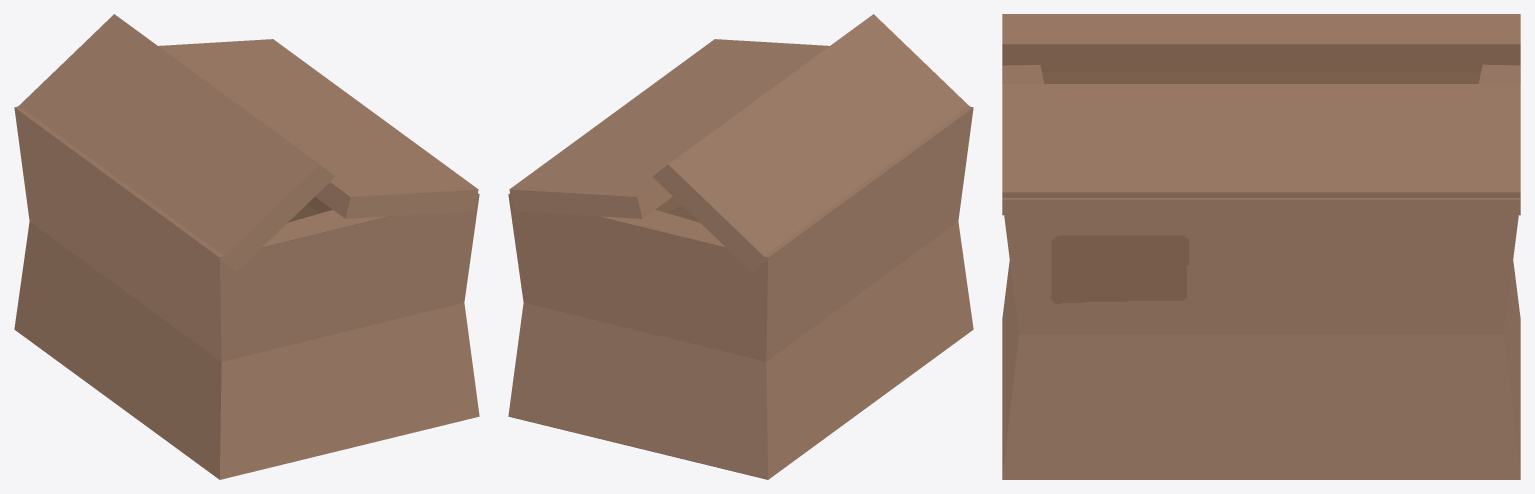
The picture shows the model from 3 angles, left to right: view 1: azimuth 30°, elevation 25°; view 2: azimuth 150°, elevation 25°; view 3: azimuth 270°, elevation 25°; orthographic projection. The views are drawn at different scales.
Visible parts, largest first — view 1: box1; view 2: box1; view 3: box1.
Boxes of the visible parts, x1,y1,x2,y2 form: box1: (14,14,479,479); box1: (508,14,973,479); box1: (1002,14,1520,479).
Bounding box in the file's own units: 1.6 × 1.71 × 2.19.
1 material, 1 textured.
